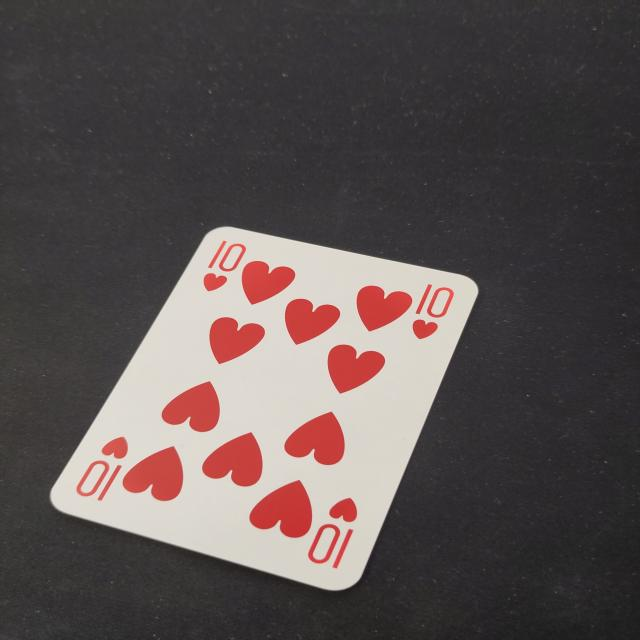10h: (67, 428, 143, 510), (300, 492, 373, 573), (402, 280, 460, 345), (195, 235, 252, 298)
